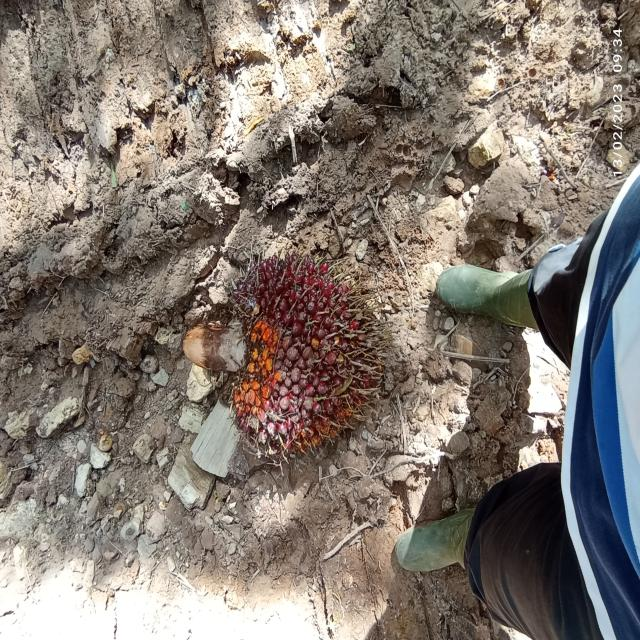fraksi 3: (179, 224, 402, 494)
